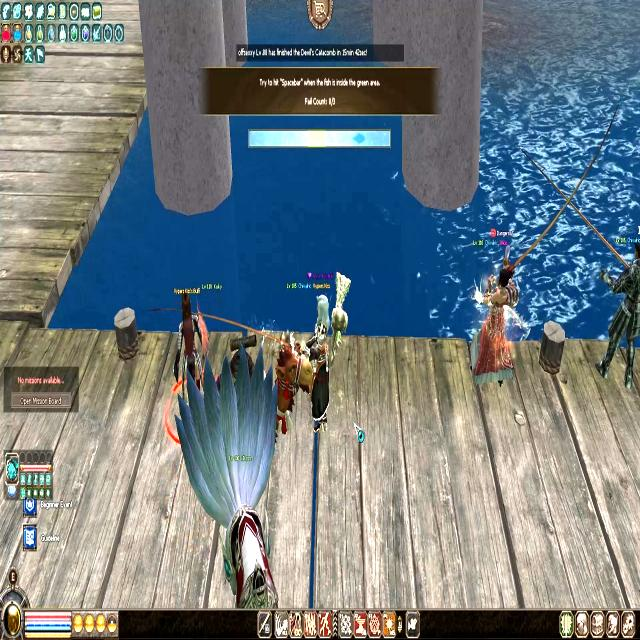fishes: (352, 130, 366, 146)
